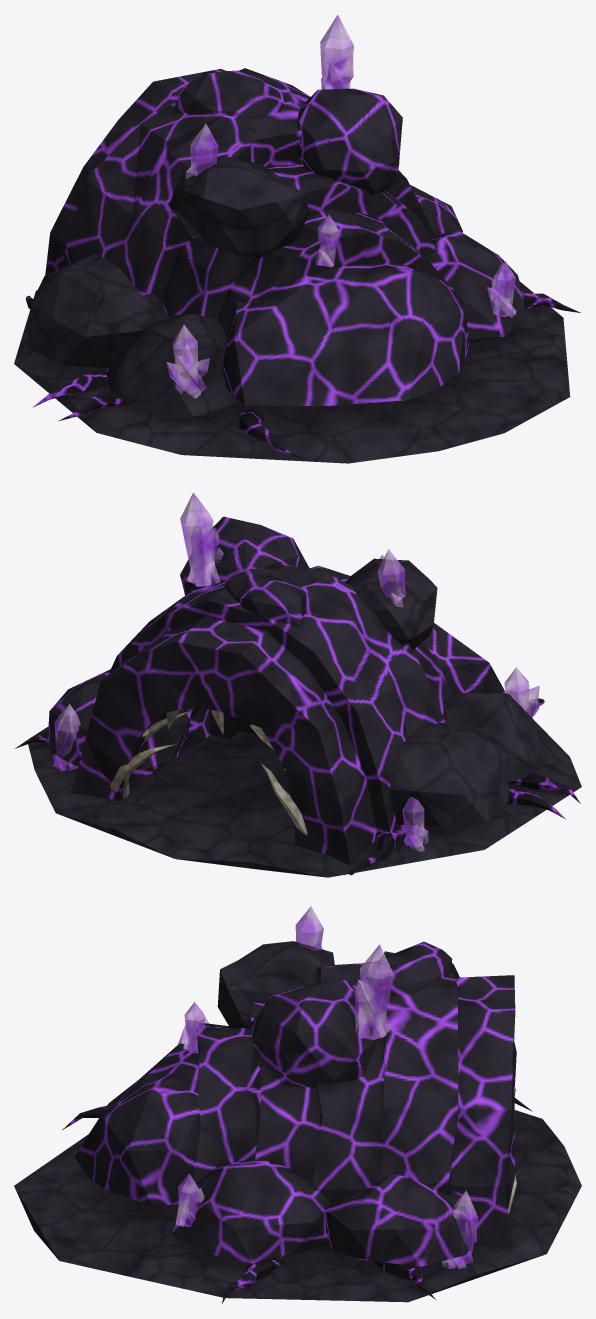
File: guarida_monstruo.fbx
3 views of the same model, one above another, from view 1: azimuth 30°, elevation 25°; view 2: azimuth 150°, elevation 25°; view 3: azimuth 270°, elevation 25° (orthographic). The views are drawn at different scales.
Parts seen in each view (by area): view 1: guarida_monstruo, guarida_monstruo_cristal; view 2: guarida_monstruo, guarida_monstruo_cristal; view 3: guarida_monstruo, guarida_monstruo_cristal.
Boxes of the visible parts, left/top/right/bottom form: guarida_monstruo: left=14, top=68, right=580, bottom=463; guarida_monstruo_cristal: left=166, top=14, right=516, bottom=398; guarida_monstruo: left=15, top=516, right=581, bottom=877; guarida_monstruo_cristal: left=53, top=492, right=539, bottom=851; guarida_monstruo: left=14, top=941, right=581, bottom=1304; guarida_monstruo_cristal: left=175, top=906, right=478, bottom=1268.
Size of the model in its own units: 36.91 by 20.69 by 35.69.
3 materials, 3 textured.
